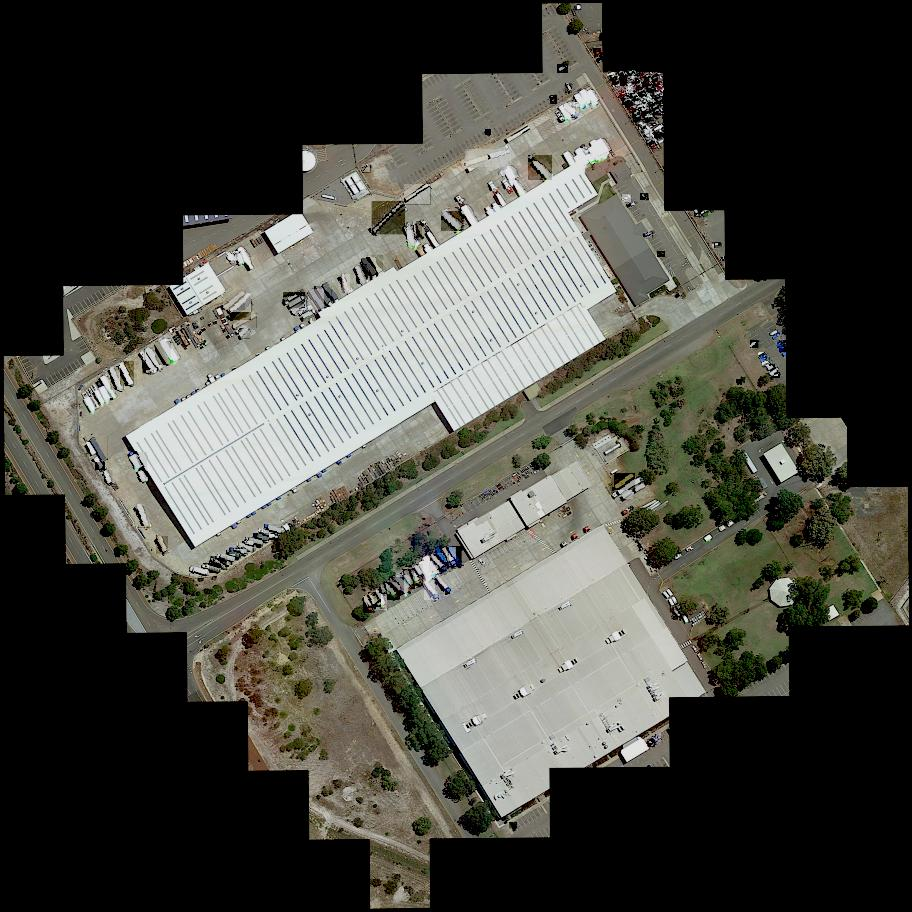large-vehicle: (372, 202, 406, 236), (465, 149, 512, 168), (613, 478, 643, 500), (528, 155, 553, 181), (404, 184, 432, 206), (130, 452, 148, 483), (441, 210, 464, 232), (230, 299, 252, 321), (223, 290, 246, 311), (90, 437, 108, 463), (229, 293, 251, 314), (145, 347, 164, 370), (155, 341, 172, 366), (120, 361, 136, 387), (233, 313, 258, 329), (314, 287, 333, 307), (308, 289, 326, 310), (110, 366, 125, 391), (366, 255, 384, 275), (614, 473, 635, 490), (322, 283, 339, 303), (137, 504, 150, 529), (429, 555, 447, 573), (383, 582, 401, 600), (435, 575, 452, 594), (442, 547, 458, 567), (361, 259, 377, 279), (425, 580, 440, 601), (407, 569, 424, 587), (390, 577, 406, 596), (396, 575, 411, 595), (436, 547, 450, 568), (142, 349, 153, 375), (449, 547, 463, 567), (292, 300, 309, 316), (210, 556, 227, 571), (403, 569, 415, 590), (283, 292, 305, 303), (356, 265, 368, 285), (289, 296, 307, 309), (156, 536, 168, 555), (564, 104, 580, 118), (377, 591, 388, 611), (363, 595, 375, 613), (189, 565, 210, 575), (369, 593, 382, 609), (258, 529, 276, 540), (237, 541, 255, 552), (203, 563, 221, 574), (264, 524, 283, 534), (217, 554, 236, 564), (299, 305, 314, 317), (245, 537, 263, 547), (342, 274, 351, 294), (413, 221, 422, 240), (302, 310, 316, 321), (86, 442, 97, 456), (252, 534, 269, 543), (408, 227, 415, 247), (226, 551, 241, 560), (105, 470, 114, 485), (96, 457, 105, 472), (229, 549, 248, 556), (240, 328, 251, 340), (226, 252, 237, 264), (415, 565, 425, 577), (235, 251, 243, 265), (622, 491, 634, 500), (380, 585, 389, 596)
small-vehicle: (236, 324, 250, 335), (557, 64, 568, 74), (622, 194, 632, 203), (626, 202, 637, 210), (769, 367, 778, 376), (632, 110, 641, 119), (751, 340, 760, 349), (638, 122, 647, 131), (651, 109, 661, 117), (649, 105, 659, 113), (640, 193, 649, 201), (363, 165, 372, 173), (778, 340, 786, 349), (773, 333, 782, 341), (770, 329, 779, 337), (767, 364, 776, 372), (646, 84, 654, 93), (630, 107, 638, 116), (633, 115, 642, 123), (656, 97, 665, 105), (694, 208, 701, 218), (566, 83, 573, 93), (550, 95, 557, 105), (771, 372, 781, 379), (658, 251, 666, 259), (647, 739, 655, 747), (627, 90, 635, 98), (627, 86, 635, 94), (633, 77, 641, 85), (628, 70, 636, 78), (478, 558, 486, 566), (509, 822, 517, 830), (642, 95, 650, 103), (609, 76, 618, 83), (619, 75, 628, 82), (618, 91, 627, 98), (622, 98, 631, 105), (625, 102, 634, 109), (760, 357, 770, 363), (596, 57, 604, 64), (629, 76, 637, 83), (617, 71, 625, 78), (612, 80, 620, 87), (646, 99, 654, 106), (657, 83, 665, 90), (653, 81, 661, 88), (640, 107, 648, 114), (644, 130, 652, 137), (648, 102, 655, 110), (644, 233, 653, 239), (608, 73, 617, 79), (640, 73, 649, 79), (636, 87, 645, 93), (713, 243, 722, 249), (646, 140, 655, 146), (641, 112, 650, 118), (780, 346, 787, 353), (644, 82, 651, 89), (656, 734, 662, 742), (652, 737, 658, 745), (620, 80, 628, 86), (655, 134, 663, 140), (652, 146, 660, 152), (645, 119, 653, 125), (642, 126, 648, 134), (627, 105, 636, 110), (616, 88, 623, 94), (485, 130, 492, 136), (645, 76, 652, 82), (650, 88, 657, 94), (647, 134, 653, 141), (636, 120, 643, 126), (593, 49, 601, 54), (758, 353, 766, 358), (637, 105, 645, 110), (634, 102, 642, 107), (633, 98, 641, 103), (652, 78, 658, 84), (643, 116, 652, 120), (595, 53, 602, 58), (636, 82, 643, 87), (614, 85, 621, 90), (763, 362, 770, 367), (625, 84, 633, 88), (639, 91, 645, 96), (620, 96, 627, 100), (720, 257, 726, 261), (631, 94, 637, 98), (655, 114, 663, 117), (642, 94, 647, 97), (650, 143, 655, 146)
